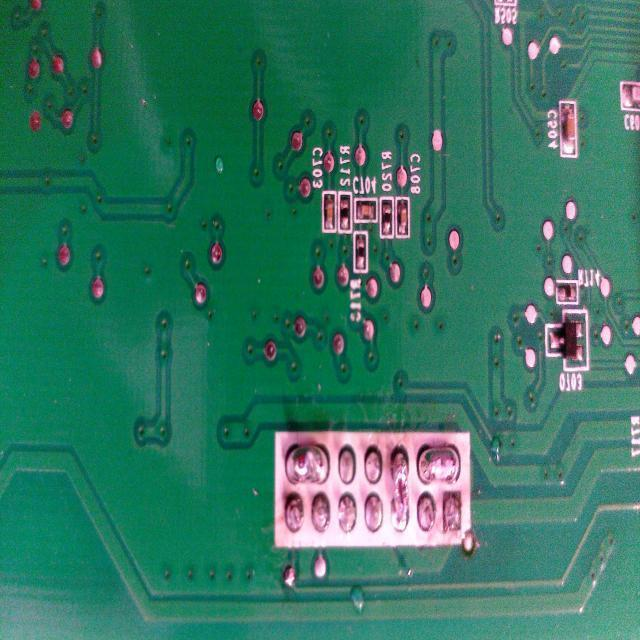Soldering shorted: (284, 435, 332, 489), (416, 441, 462, 486), (390, 444, 410, 536)
